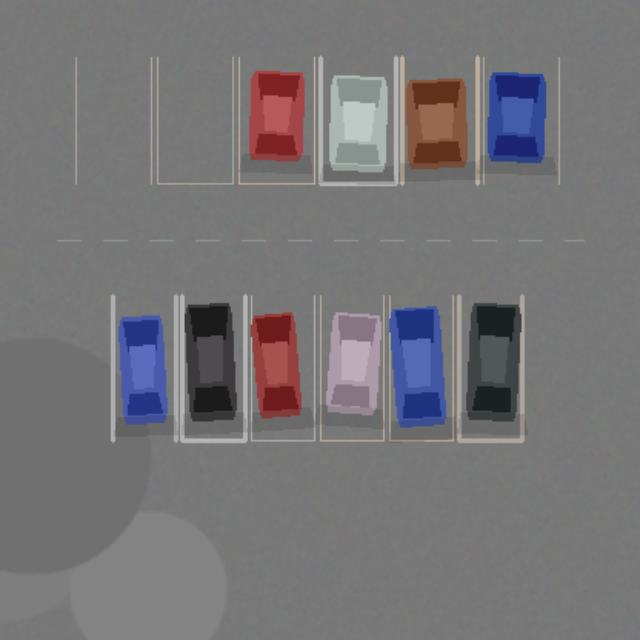space-empty: (75, 57, 151, 183), (157, 57, 232, 183)
space-occupied: (238, 57, 314, 183), (320, 57, 395, 183), (402, 57, 477, 183), (483, 57, 558, 183), (458, 295, 522, 440), (112, 295, 175, 440), (182, 295, 245, 440), (251, 295, 314, 440), (320, 295, 383, 440), (389, 295, 452, 440)
